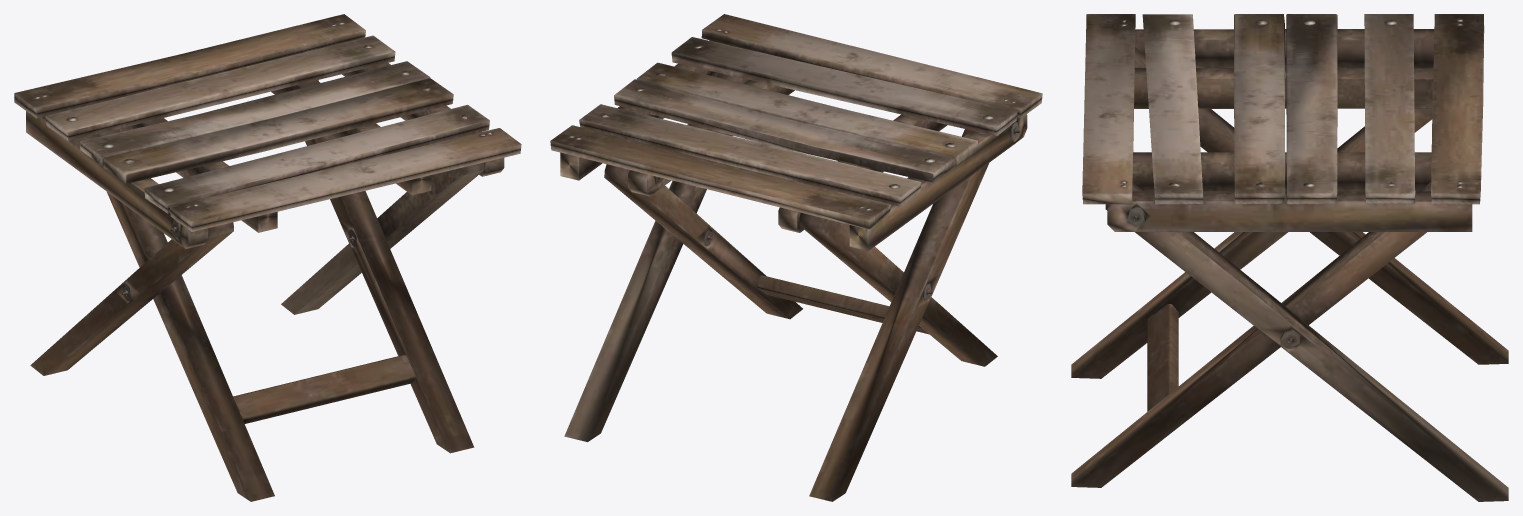
Rendered from folding_wooden_stool.glb.
The picture shows the model from 3 angles, left to right: view 1: azimuth 30°, elevation 25°; view 2: azimuth 150°, elevation 25°; view 3: azimuth 270°, elevation 25°; orthographic projection. The views are drawn at different scales.
Parts seen in each view (by area): view 1: folding_wooden_stool; view 2: folding_wooden_stool; view 3: folding_wooden_stool.
Part boxes in pixels (bbox=[...]): folding_wooden_stool: bbox=[14, 14, 521, 501]; folding_wooden_stool: bbox=[550, 14, 1042, 501]; folding_wooden_stool: bbox=[1071, 14, 1508, 501].
Bounding box in the file's own units: 0.5257 × 0.4401 × 0.5401.
1 material, 1 textured.
